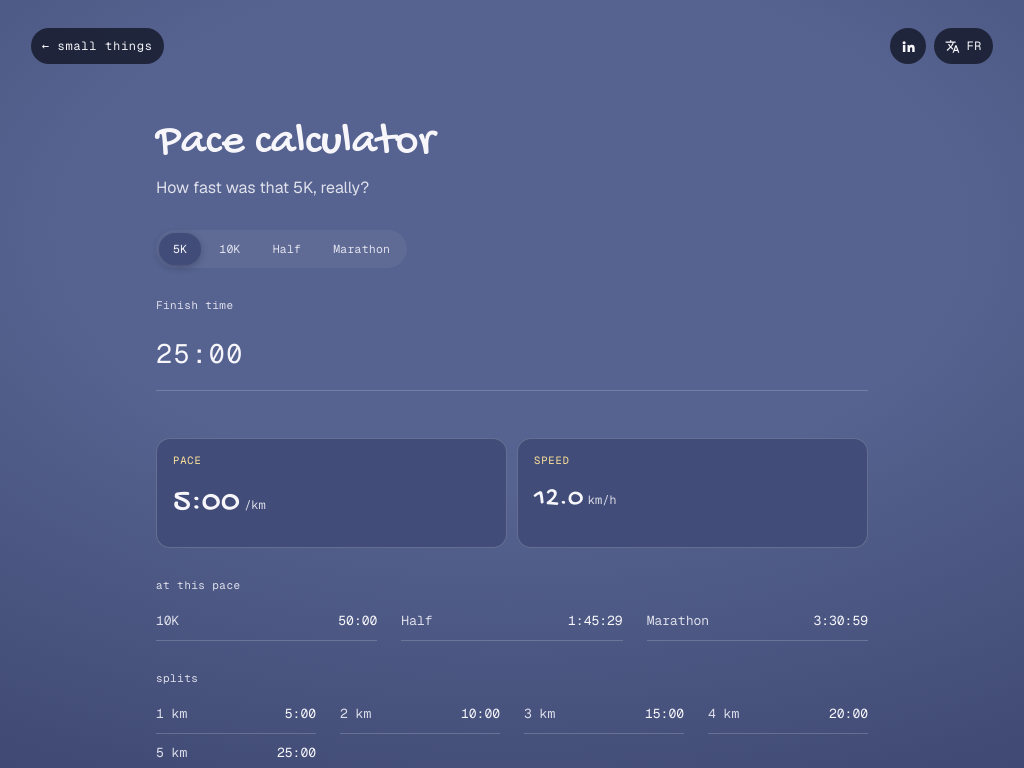
Scenario: Pace › shows what the same pace means over the other distances
Click the button "Marathon": [362, 249] box x1=319 y1=233 x2=404 y2=265
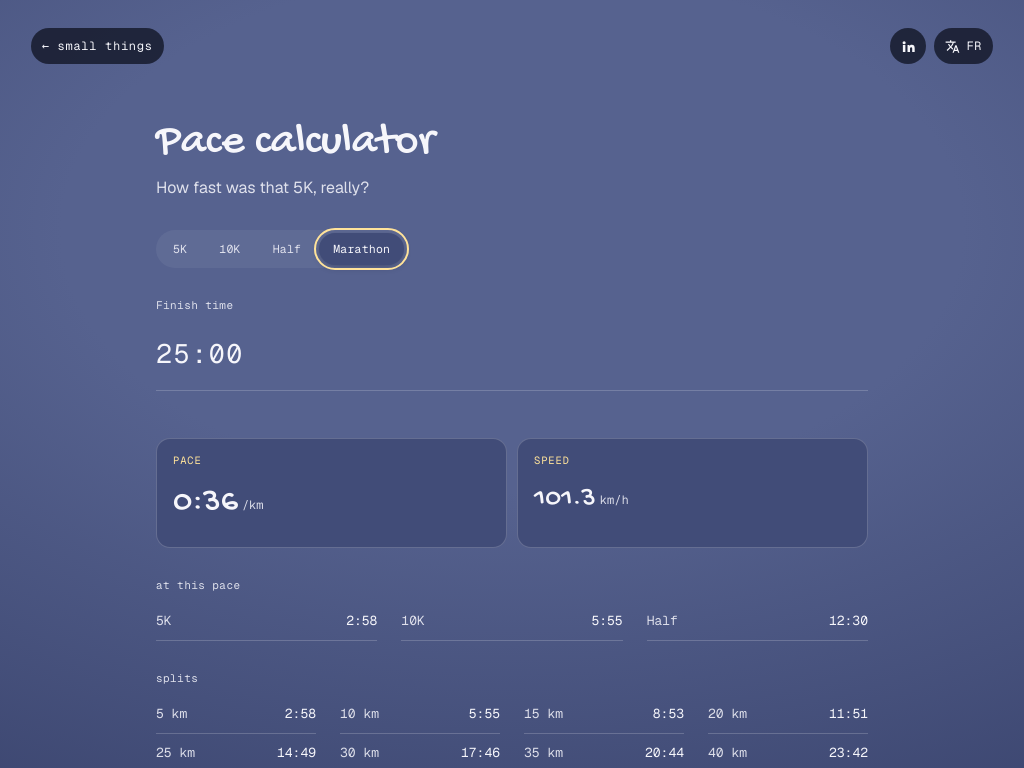
Replace the text in the field labelled "Finish time" with "3:30:59": [512, 356] box x1=156 y1=321 x2=868 y2=391
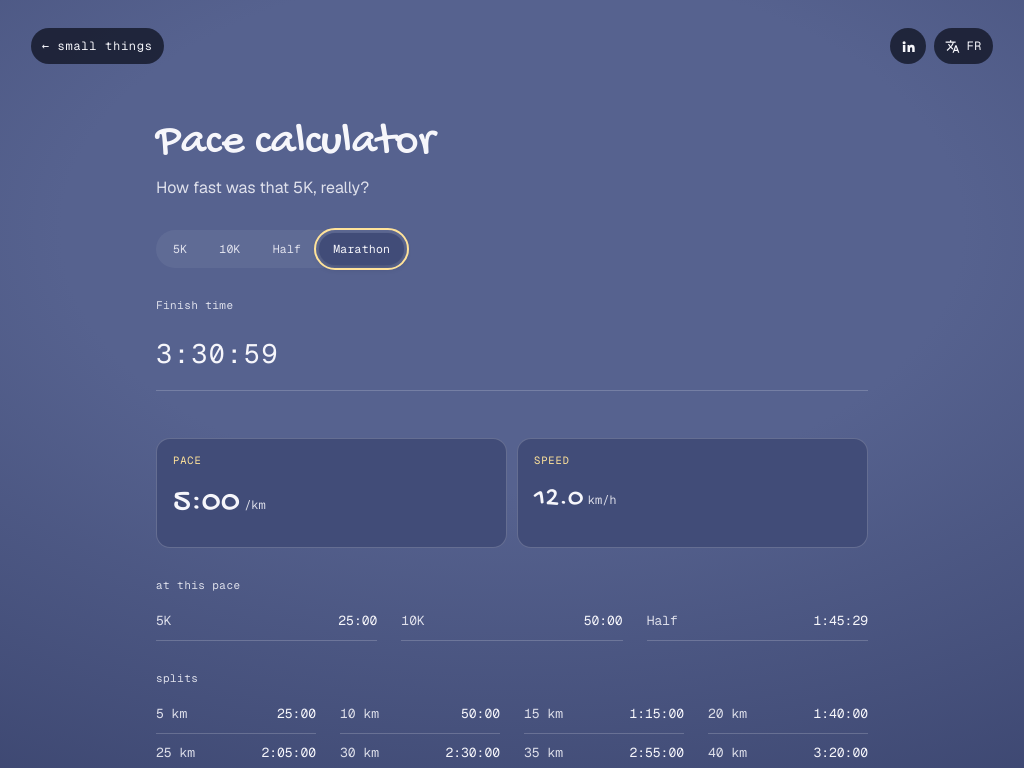
Check: the list item "5K 25:00" is shown, box x1=156 y1=602 x2=377 y2=641
